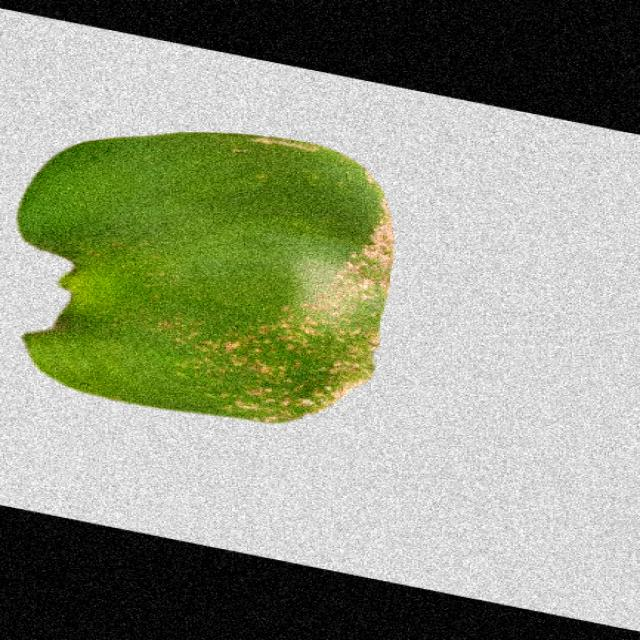daun berpenyakit bercak: (19, 134, 393, 422)
